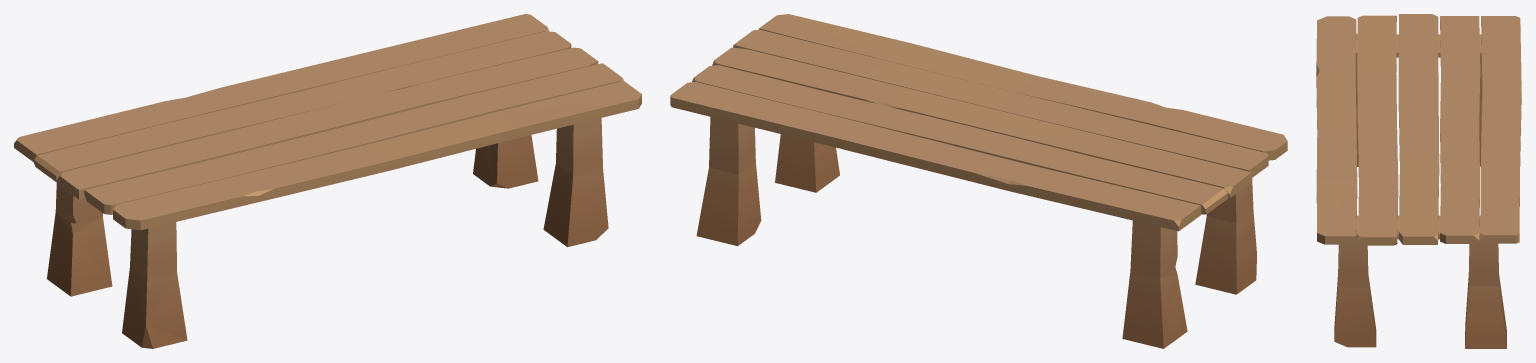
File: SM_Table_01.glb
3 views of the same model, side by side, from view 1: azimuth 30°, elevation 25°; view 2: azimuth 150°, elevation 25°; view 3: azimuth 270°, elevation 25° (orthographic). The views are drawn at different scales.
Visible parts, largest first — view 1: SM_Table_01; view 2: SM_Table_01; view 3: SM_Table_01.
Part boxes in pixels (x1,y1,x2,y2): SM_Table_01: (14, 14, 641, 348); SM_Table_01: (670, 14, 1287, 348); SM_Table_01: (1316, 14, 1521, 348).
Size of the model in its own units: 3.11 by 0.8019 by 1.21.
1 material, 1 textured.
